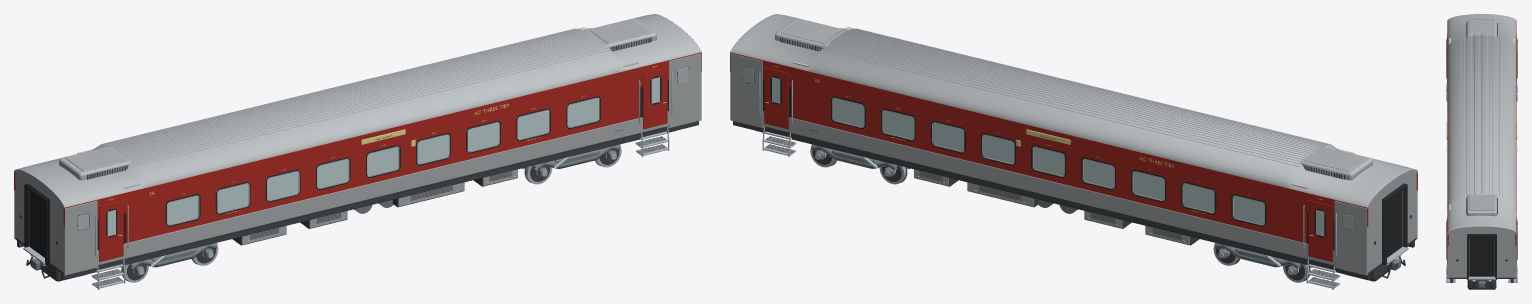
The model's file is LHB_3A_interior_v02.fbx.
3 renders of one model, left to right at view 1: azimuth 30°, elevation 25°; view 2: azimuth 150°, elevation 25°; view 3: azimuth 270°, elevation 25°, orthographic. The views are drawn at different scales.
Visible parts, largest first — view 1: Arched_LHB_roof_4250mm, Red_upper_fascia, Grey_lower_body, Red_sill_band, Continuous_solebar, Toilet_end_side, Toilet_end_side.001, Door_leaf.001, Door_leaf, Floor_sandwich, Window_band_pillar, Window_band_pillar.009 (+36 smaller); view 2: Arched_LHB_roof_4250mm, Red_upper_fascia.001, Grey_lower_body.001, Red_sill_band.001, Continuous_solebar.001, Toilet_end_side.002, Toilet_end_side.003, Door_leaf.003, Door_leaf.002, Floor_sandwich, Window_band_pillar.010, Window_band_pillar.019 (+36 smaller); view 3: Arched_LHB_roof_4250mm, Vestibule_dark_recess.001, Endwall_outer.002, Endwall_outer.003, End_roof_cap.001, AC_service_cover, AC_service_cover.001, Roof_longitudinal_fluting.008, Roof_AC_housing.001, Red_upper_fascia, Red_upper_fascia.001, Bio_toilet_tank.001 (+21 smaller).
Part boxes in pixels (box(x1,y1,x2,y2)): Arched_LHB_roof_4250mm: box(16, 14, 701, 207); Red_upper_fascia: box(63, 52, 701, 227); Grey_lower_body: box(64, 111, 668, 272); Red_sill_band: box(125, 111, 638, 243); Continuous_solebar: box(61, 121, 698, 279); Toilet_end_side: box(64, 200, 97, 275); Toilet_end_side.001: box(668, 53, 701, 128); Door_leaf.001: box(643, 67, 667, 129); Door_leaf: box(99, 200, 123, 261); Floor_sandwich: box(15, 126, 666, 274); Window_band_pillar: box(125, 203, 166, 235); Window_band_pillar.009: box(600, 87, 638, 120); Arched_LHB_roof_4250mm: box(730, 14, 1415, 207); Red_upper_fascia.001: box(730, 52, 1368, 227); Grey_lower_body.001: box(763, 111, 1367, 272); Red_sill_band.001: box(793, 111, 1306, 243); Continuous_solebar.001: box(733, 121, 1370, 279); Toilet_end_side.002: box(1334, 200, 1367, 275); Toilet_end_side.003: box(730, 53, 763, 128); Door_leaf.003: box(764, 67, 788, 129); Door_leaf.002: box(1308, 200, 1332, 261); Floor_sandwich: box(765, 126, 1416, 274); Window_band_pillar.010: box(1265, 203, 1306, 235); Window_band_pillar.019: box(793, 87, 831, 120); Arched_LHB_roof_4250mm: box(1447, 14, 1516, 231); Vestibule_dark_recess.001: box(1469, 237, 1494, 276); Endwall_outer.002: box(1448, 231, 1469, 277); Endwall_outer.003: box(1494, 231, 1515, 277); End_roof_cap.001: box(1447, 226, 1516, 233); AC_service_cover: box(1469, 20, 1494, 35); AC_service_cover.001: box(1469, 195, 1494, 210); Roof_longitudinal_fluting.008: box(1481, 34, 1482, 193); Roof_AC_housing.001: box(1467, 194, 1496, 216); Red_upper_fascia: box(1447, 20, 1448, 245); Red_upper_fascia.001: box(1515, 20, 1516, 245); Bio_toilet_tank.001: box(1467, 279, 1496, 289).
Size of the model in its own units: 337 by 2400 by 429.
